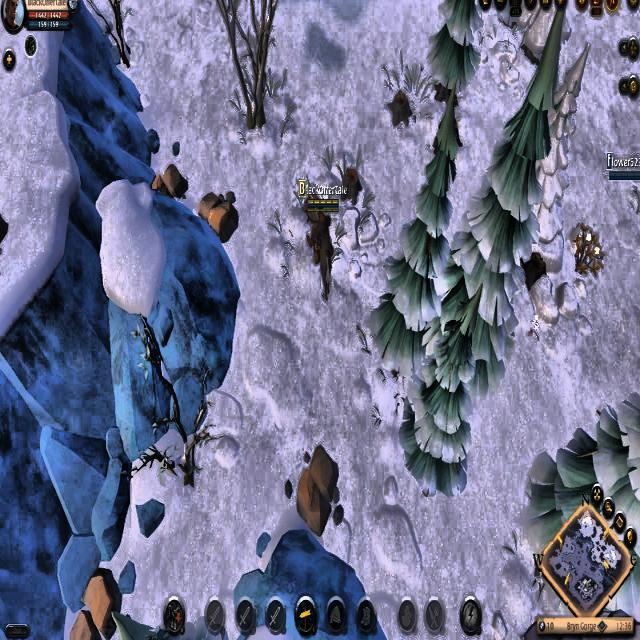limestone: (295, 444, 344, 536), (68, 562, 124, 636), (197, 187, 240, 243), (151, 160, 189, 204)
